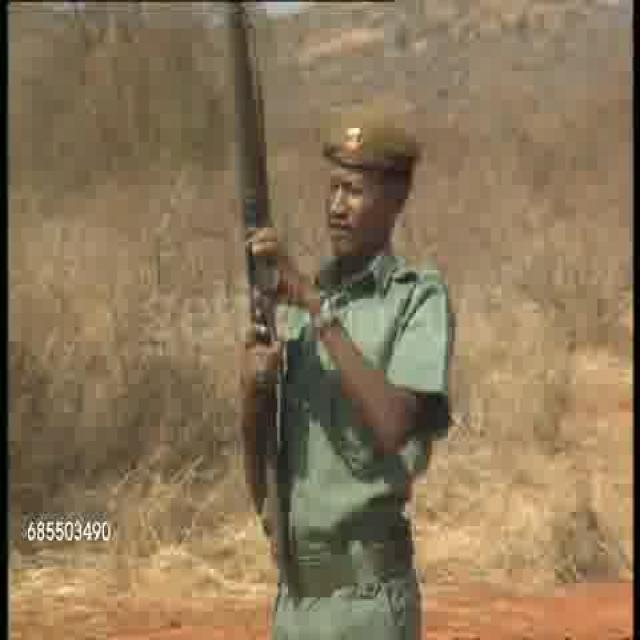poacher: (282, 101, 484, 523)
weapon: (221, 1, 292, 556)
